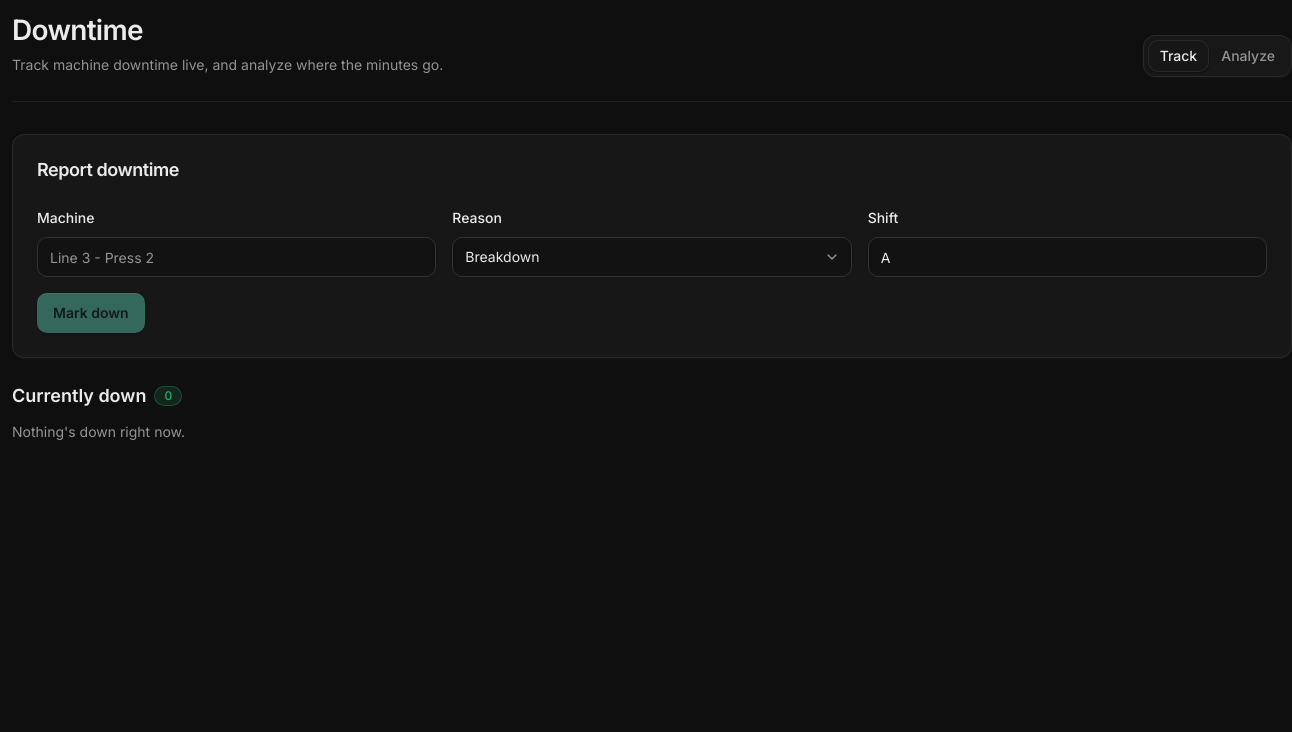
Test case: Downtime track (org with live tracking) › prefills the last-used shift and shows the server error when marking down fails
Expected: the text "Nothing's down right now." is shown, [12,423,185,440]
Expected: the 2nd field holds "A", [868,237,1267,277]
In the field with placeholder "Line 3 - Press 2": [237, 257] box [37,237,436,277], type "Press 4"
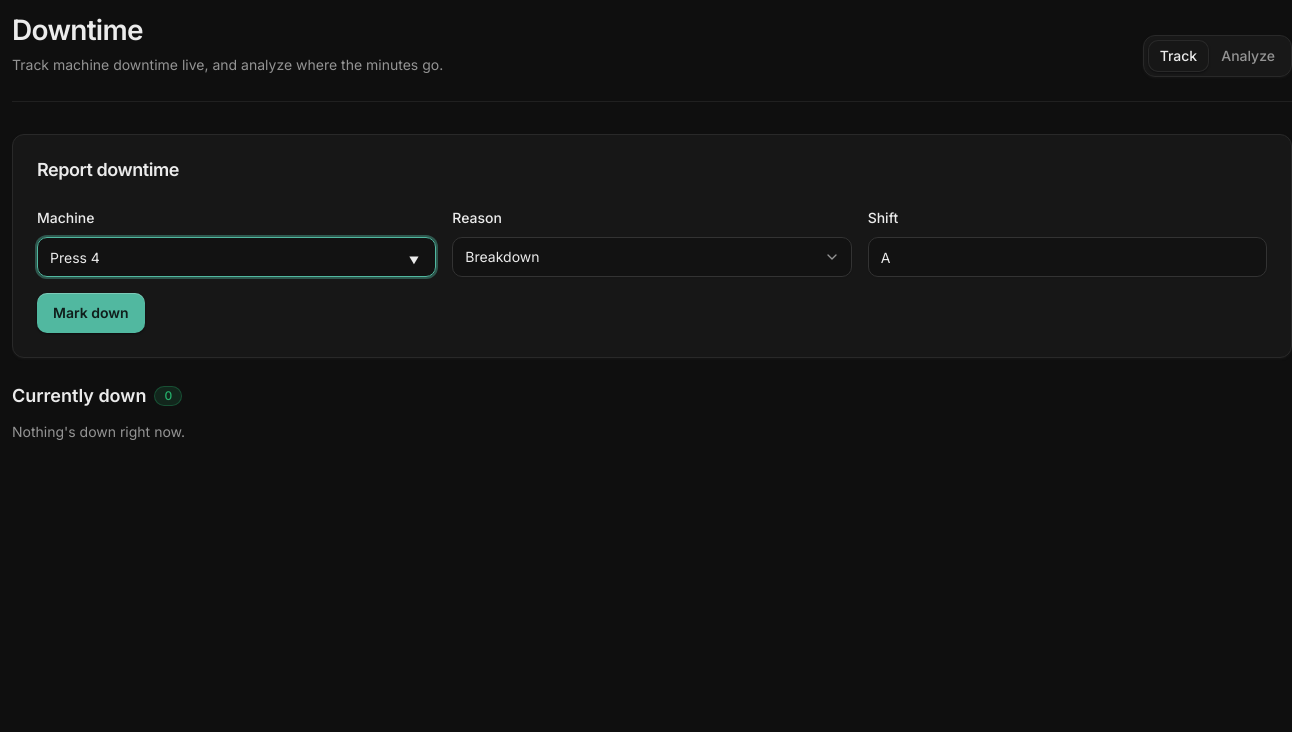
Click the button "Mark down": [91, 313] box [37,293,145,333]
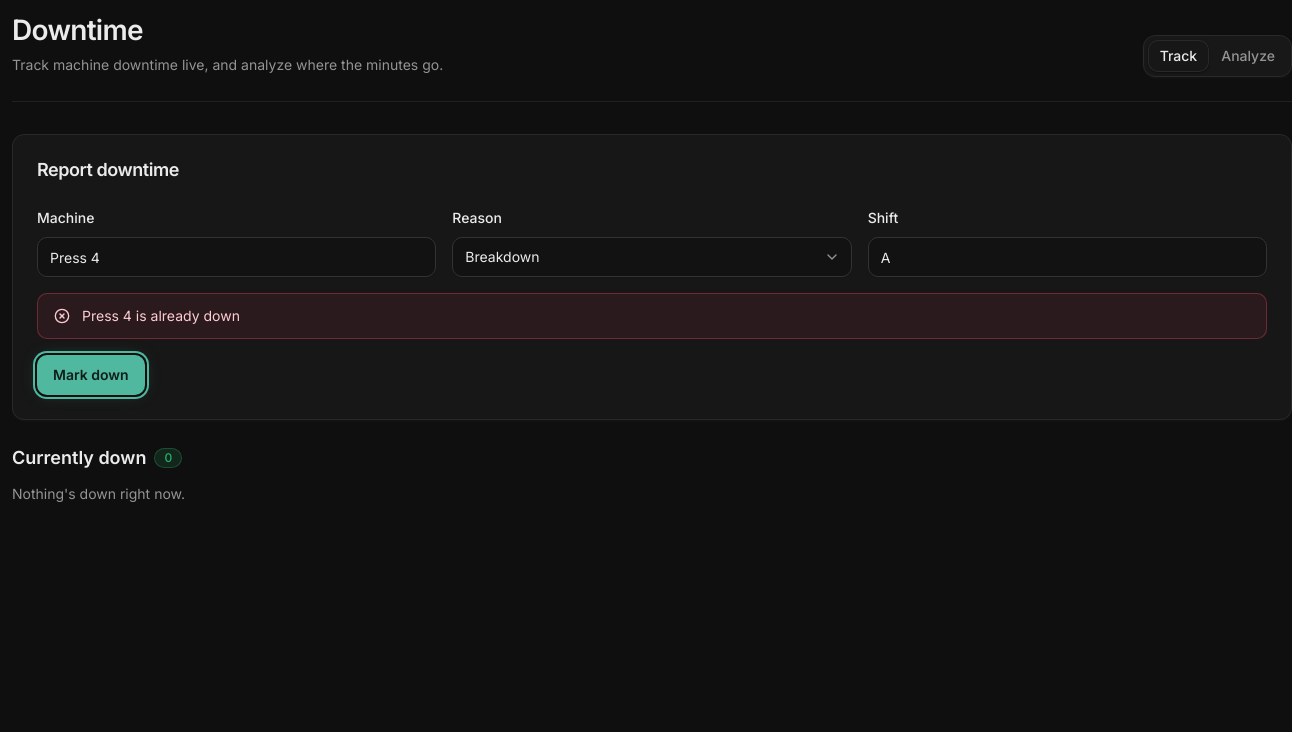
Expected: the message "Press 4 is already down" is shown, [37,293,1267,339]
Expected: the message reads "Press 4 is already down", [82,307,240,324]
